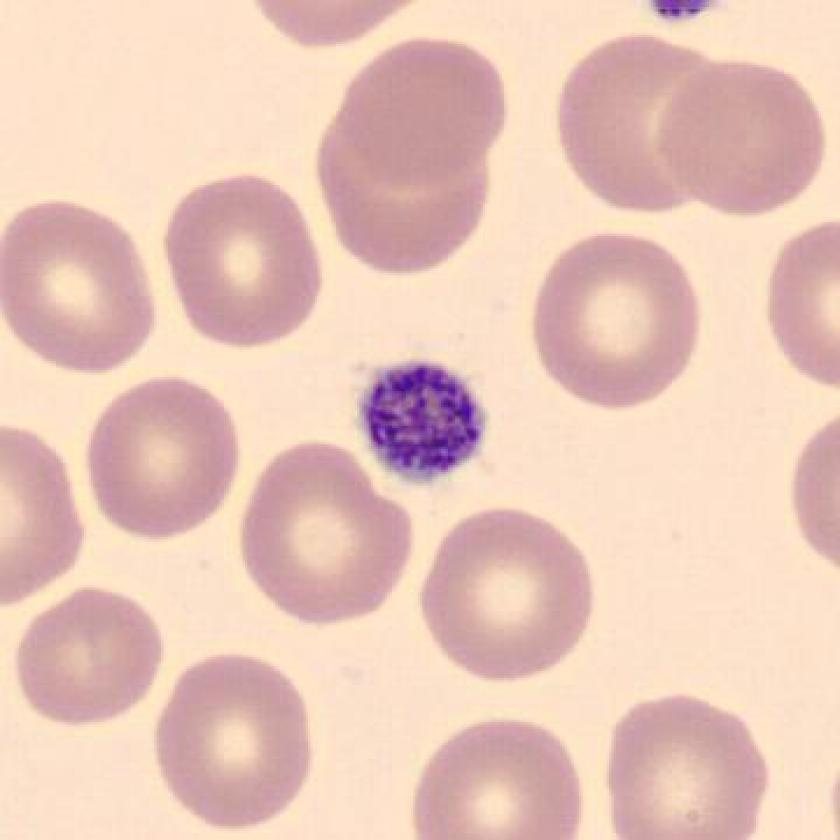platelets: (349, 351, 498, 497), (654, 1, 731, 33)
